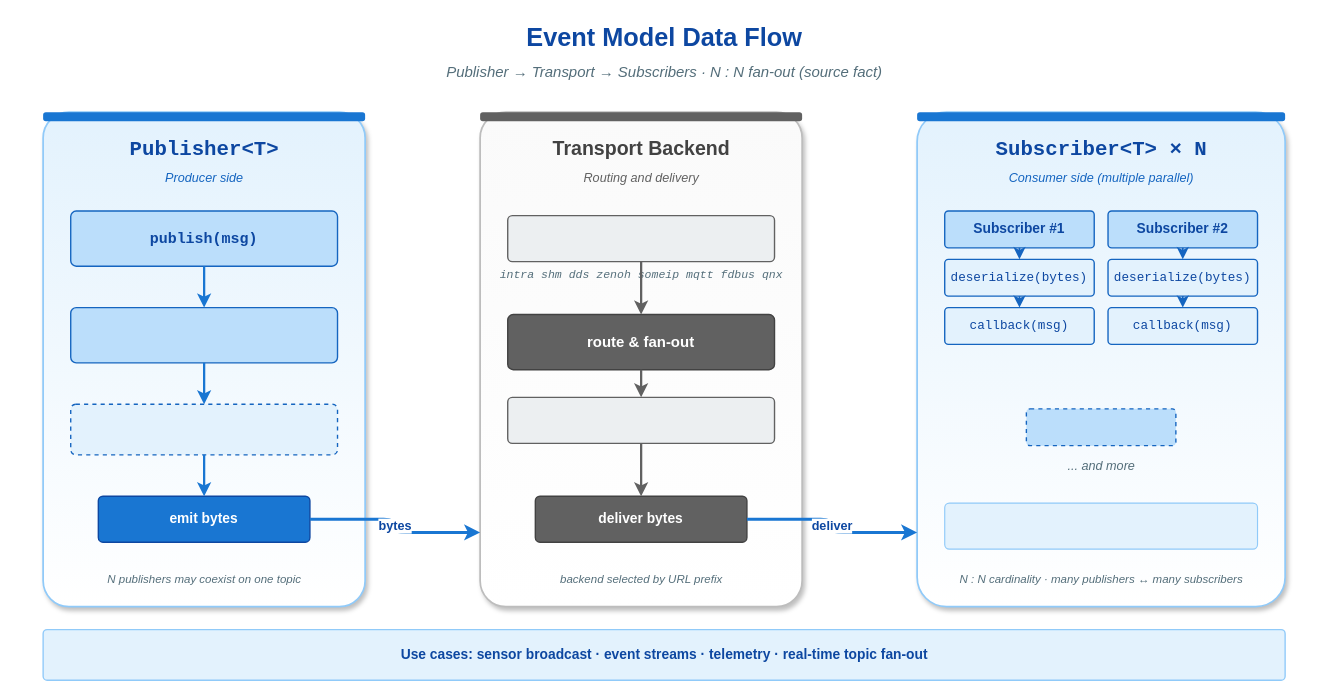
Some shapes in this 1327 by 700 pixel diagram are drawn without their labels. The centre of each missing label's shape, as x and y in pixels:
"each subscriber receives the message independently" goes at (x=1101, y=525).
"loan() [shm only]" goes at (x=203, y=429).
"QoS / History / Security" goes at (x=640, y=419).
"serialize(msg)" goes at (x=203, y=334).
"Subscriber #N" goes at (x=1100, y=427).
"URL scheme dispatch" goes at (x=640, y=238).
